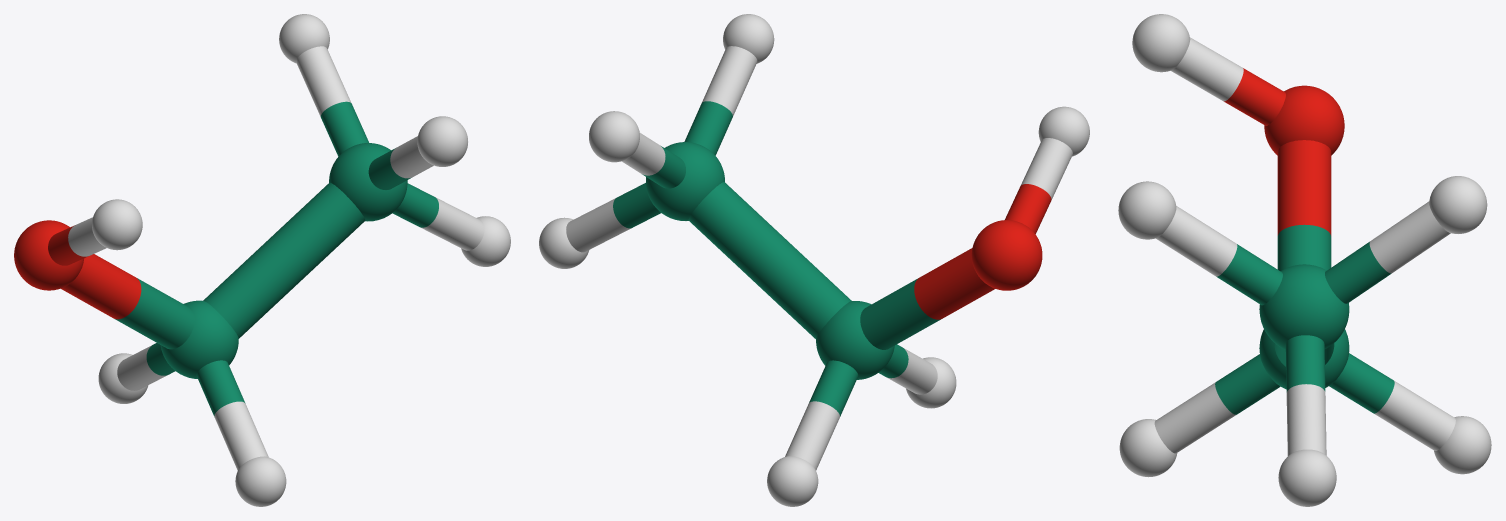
Rendered from Ethanol.glb.
The picture shows the model from 3 angles, left to right: view 1: azimuth 30°, elevation 25°; view 2: azimuth 150°, elevation 25°; view 3: azimuth 270°, elevation 25°; orthographic projection. The views are drawn at different scales.
Bounding box in the file's own units: 3.67 × 2.47 × 2.11.
